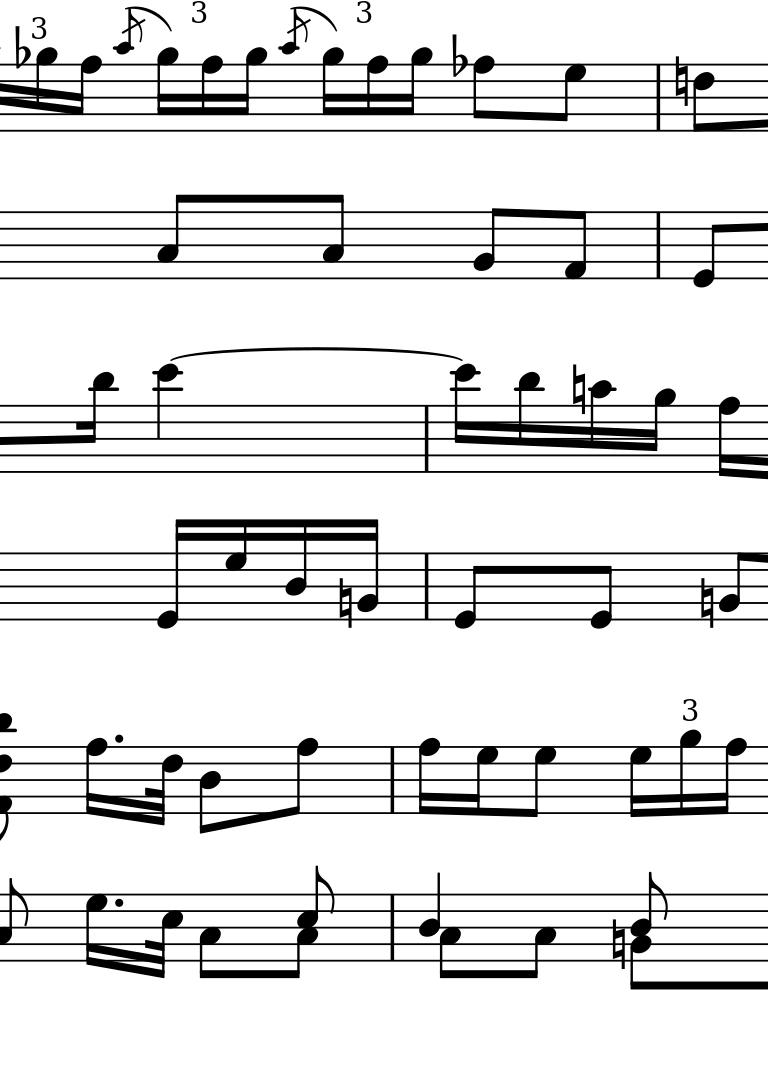16_0: (154, 516, 190, 632)
16_10: (588, 379, 614, 477)
16_11: (79, 369, 115, 478), (514, 370, 543, 477)
16_12: (451, 362, 480, 475)
16_2: (356, 519, 381, 622)
16_4: (283, 516, 310, 622)
16_7: (223, 519, 252, 622), (466, 745, 499, 816), (84, 892, 109, 972), (629, 745, 650, 818)
16_8: (714, 737, 747, 817), (70, 55, 103, 133), (716, 395, 741, 479), (83, 737, 108, 820), (364, 54, 389, 134), (416, 737, 441, 817), (199, 55, 224, 133)
16_9: (644, 387, 675, 475), (236, 47, 268, 132), (400, 47, 431, 133), (322, 46, 345, 133), (678, 729, 701, 816), (34, 46, 55, 132), (156, 47, 177, 132)
3: (681, 698, 699, 723), (189, 1, 208, 24), (31, 16, 48, 40), (356, 1, 373, 23)
32_5: (144, 893, 182, 980)
32_6: (144, 745, 183, 827)
4_12: (153, 363, 182, 478)
4_4: (417, 875, 441, 964)
8_0: (451, 551, 486, 631), (690, 210, 723, 290), (588, 551, 615, 631)
8_1: (562, 209, 589, 282)
8_2: (472, 207, 505, 281), (718, 551, 749, 622)
8_2_4: (630, 870, 670, 992)
8_3: (155, 192, 191, 281), (523, 892, 557, 981), (321, 193, 346, 282), (198, 892, 223, 981), (439, 892, 461, 980)
8_3_5: (287, 866, 338, 979)
8_4: (197, 745, 222, 836)
8_6: (692, 62, 716, 134)
8_7: (524, 745, 556, 819), (554, 63, 586, 133)
8_8: (284, 736, 319, 818), (471, 54, 496, 133)
Acciaccature: (113, 9, 144, 133), (278, 11, 309, 133)
Flat: (450, 32, 467, 80), (13, 24, 30, 71)
Natural: (609, 917, 627, 973), (336, 576, 354, 631), (698, 577, 716, 631), (570, 362, 587, 419), (672, 54, 689, 109)
Single_barline: (383, 894, 402, 962), (649, 212, 667, 280), (649, 64, 667, 131), (418, 405, 436, 472), (418, 553, 436, 619), (384, 748, 402, 812)
Slur: (169, 345, 462, 363), (289, 4, 331, 35), (128, 5, 169, 30)
dot: (110, 730, 126, 746), (110, 895, 124, 911)
